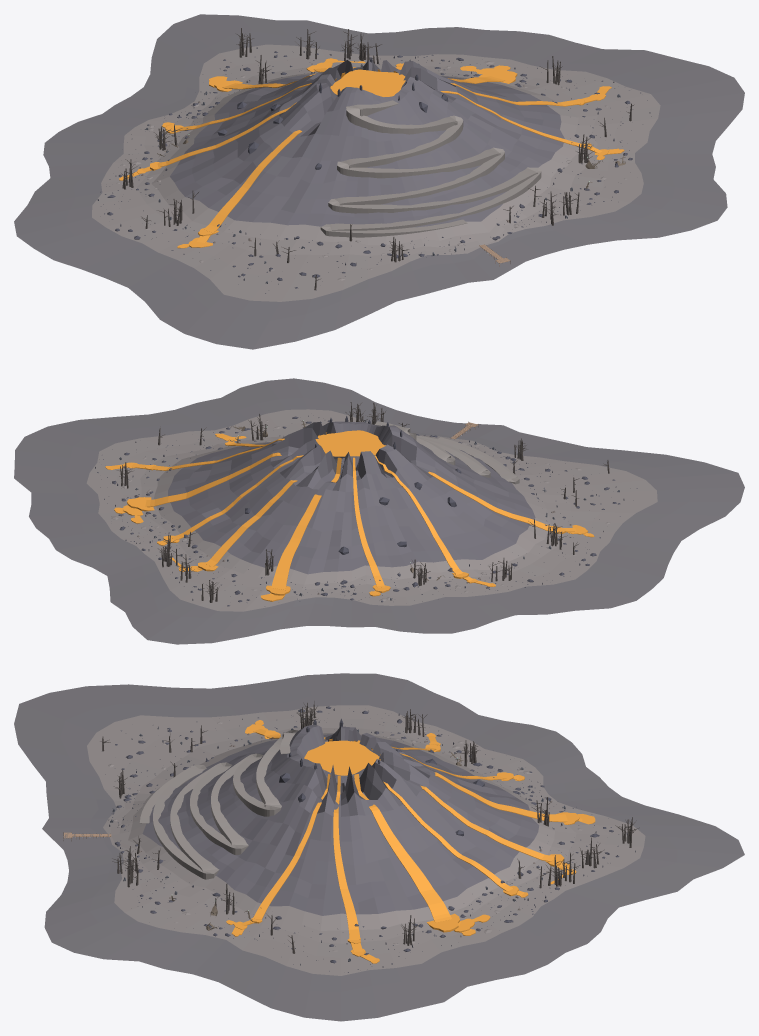
The model's file is island_pack.glb.
3 views of the same model, one above another, from view 1: azimuth 30°, elevation 25°; view 2: azimuth 150°, elevation 25°; view 3: azimuth 270°, elevation 25° (orthographic). The views are drawn at different scales.
Visible parts, largest first — view 1: Volcano_Base, Volcano_Terraces, Volcano_Lava, Volcano_DeadTrees, Volcano_Rocks; view 2: Volcano_Base, Volcano_Lava, Volcano_DeadTrees, Volcano_Rocks, Volcano_Terraces; view 3: Volcano_Base, Volcano_Lava, Volcano_Terraces, Volcano_DeadTrees, Volcano_Rocks.
Part boxes in pixels (x1,y1,x2,y2): Volcano_Base: [14, 14, 744, 349]; Volcano_Terraces: [320, 100, 541, 237]; Volcano_Lava: [119, 58, 624, 248]; Volcano_DeadTrees: [121, 28, 634, 290]; Volcano_Rocks: [97, 47, 650, 293]; Volcano_Base: [14, 378, 744, 644]; Volcano_Lava: [105, 430, 594, 601]; Volcano_DeadTrees: [117, 402, 609, 602]; Volcano_Rocks: [95, 415, 637, 606]; Volcano_Terraces: [374, 421, 519, 484]; Volcano_Base: [14, 673, 744, 1021]; Volcano_Lava: [226, 720, 595, 963]; Volcano_Terraces: [139, 730, 297, 879]; Volcano_DeadTrees: [100, 701, 639, 953]; Volcano_Rocks: [109, 706, 635, 972].
Size of the model in its own units: 1887 by 266 by 1676.
